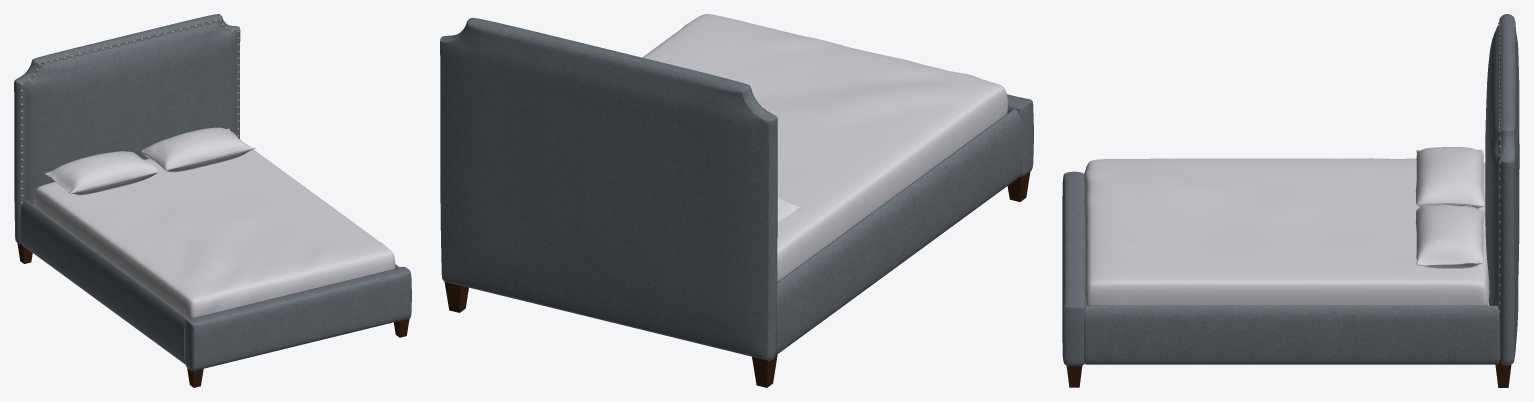
Rendered from bed-queen-nailhead--lagoon.glb.
3 renders of one model, left to right at view 1: azimuth 30°, elevation 25°; view 2: azimuth 150°, elevation 25°; view 3: azimuth 270°, elevation 25°, orthographic. The views are drawn at different scales.
Parts seen in each view (by area): view 1: RootNode; view 2: RootNode; view 3: RootNode.
Part boxes in pixels (x1,y1,x2,y2): RootNode: (14, 14, 411, 387); RootNode: (440, 14, 1033, 387); RootNode: (1062, 14, 1519, 387).
Size of the model in its own units: 1.68 by 1.42 by 2.34.
Materials: 1 (1 with a texture image).
